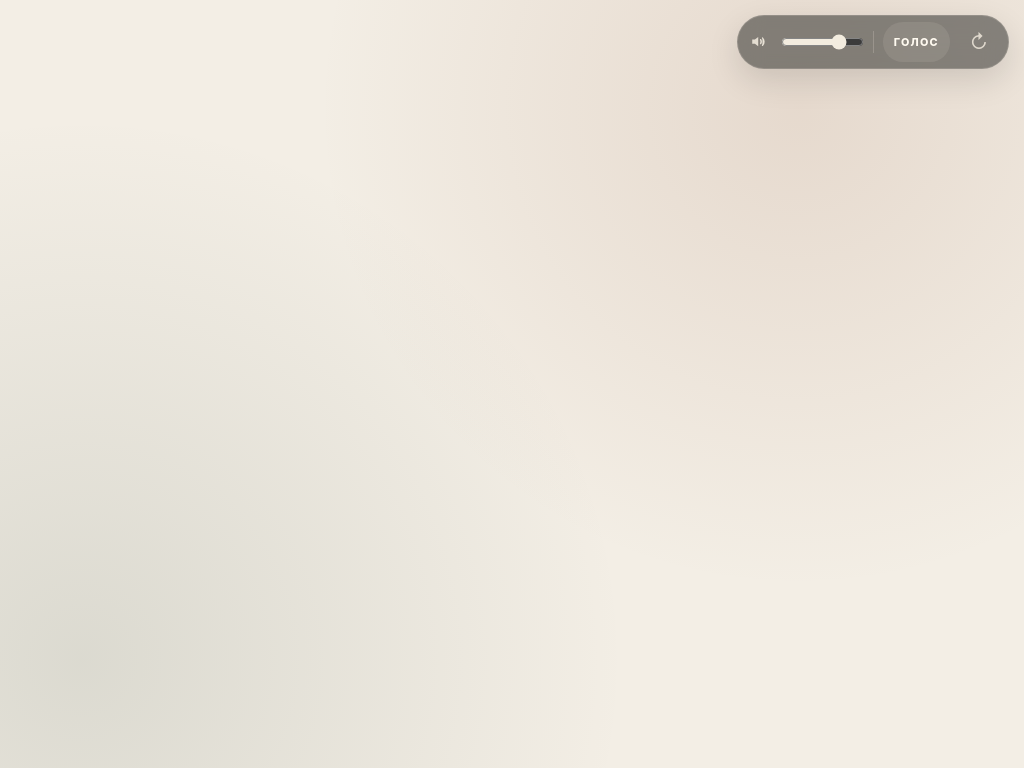
Test: ScreenAudioControl › shows narration controls only for an armed Bunker mission and keeps replay disabled when narration is off
Expected: the button named "Повторить вступление" is enabled, [959,22,999,62]
Click the button with aria-label "Отключить озвучку" at (916,42), box [883,22,950,62]
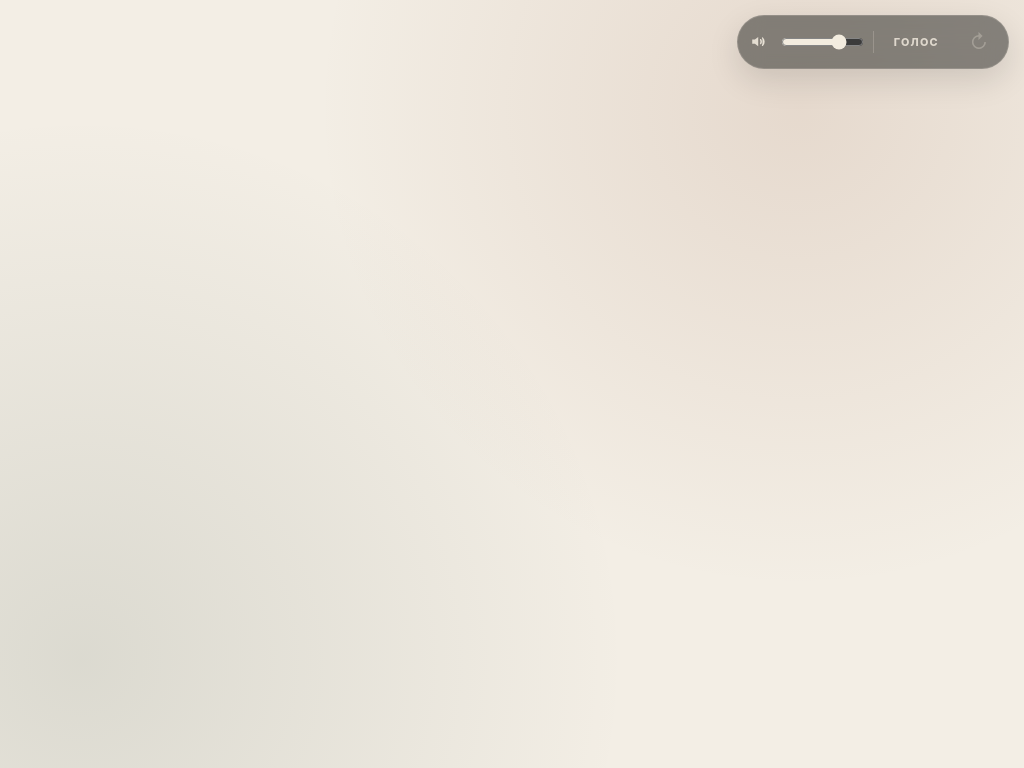
Expected: the button with aria-label "Включить озвучку" is shown
Expected: the button named "Повторить вступление" is disabled, [959,22,999,62]
Click the button with aria-label "Включить озвучку" at (916,42), box [883,22,950,62]
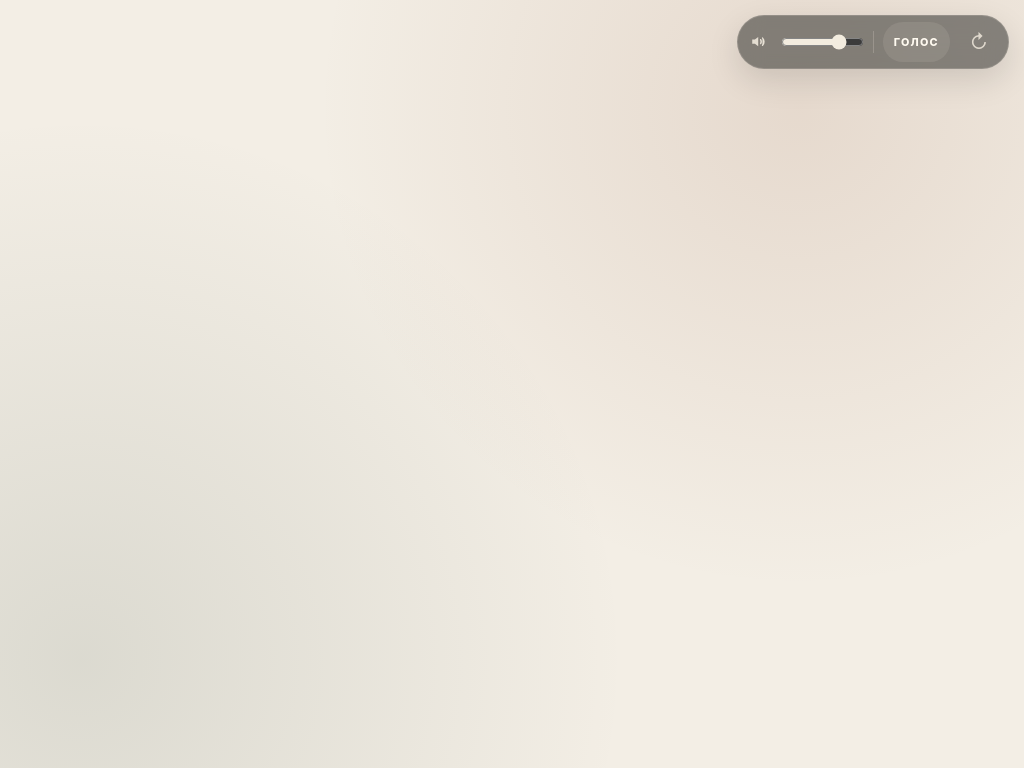
Expected: the button with aria-label "Отключить озвучку" is shown, [883,22,950,62]
